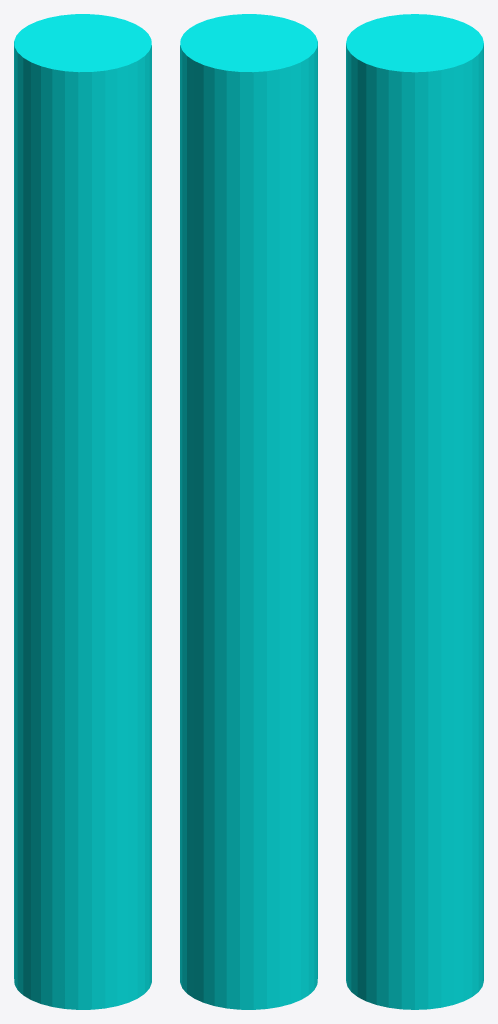
Rendered from cylinder_cyan.glb.
3 renders of one model, left to right at view 1: azimuth 30°, elevation 25°; view 2: azimuth 150°, elevation 25°; view 3: azimuth 270°, elevation 25°, orthographic.
Visible parts, largest first — view 1: Cylinder; view 2: Cylinder; view 3: Cylinder.
Boxes of the visible parts, x1=… form: Cylinder: x1=14, y1=14, x2=151, y2=1009; Cylinder: x1=180, y1=14, x2=317, y2=1009; Cylinder: x1=346, y1=14, x2=483, y2=1009.
Size of the model in its own units: 0.2 by 1.5 by 0.2.
